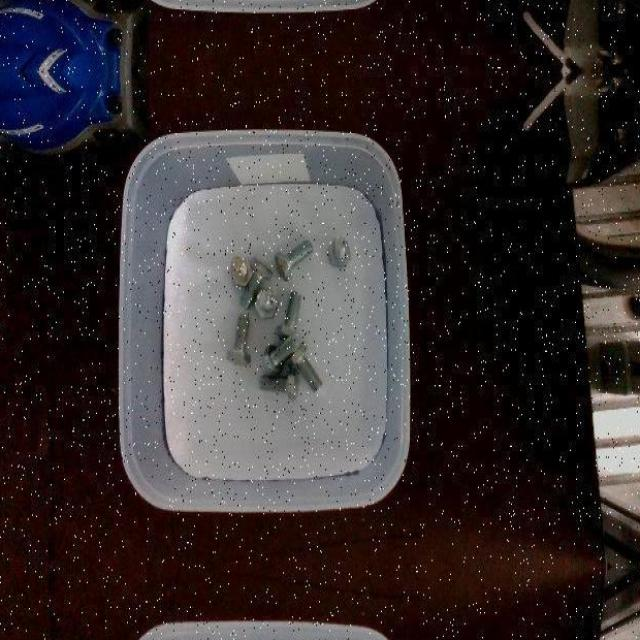screw: (288, 341, 323, 392), (238, 257, 272, 309), (274, 238, 314, 280), (264, 333, 302, 375), (260, 366, 299, 401), (227, 312, 251, 364), (328, 236, 351, 268), (254, 289, 278, 316), (230, 257, 252, 284)
